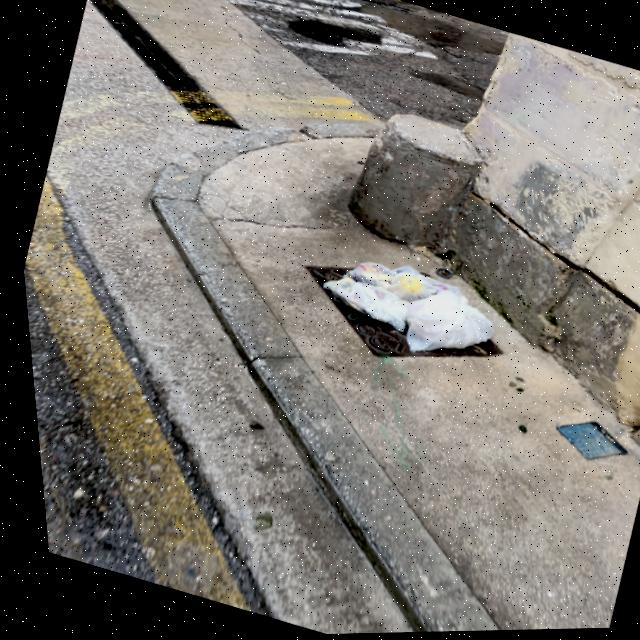Organic Waste -White Bag-: (388, 285, 497, 377), (332, 249, 462, 322), (309, 272, 412, 334)
